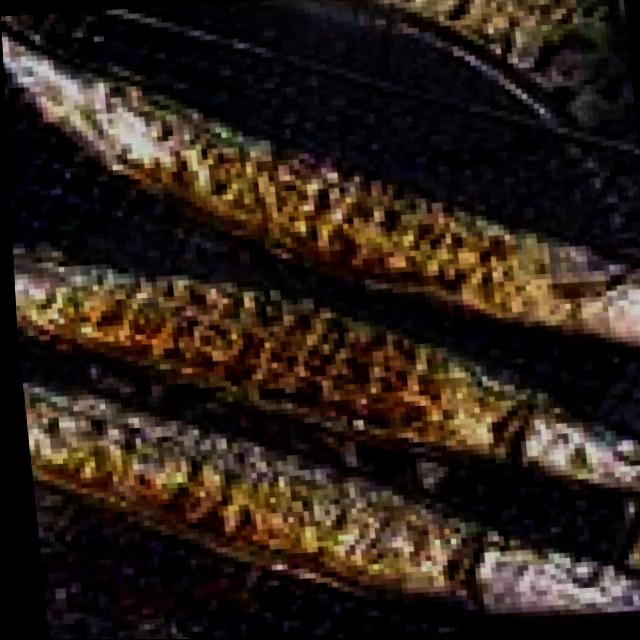熟制海鲜: (2, 36, 640, 640)
